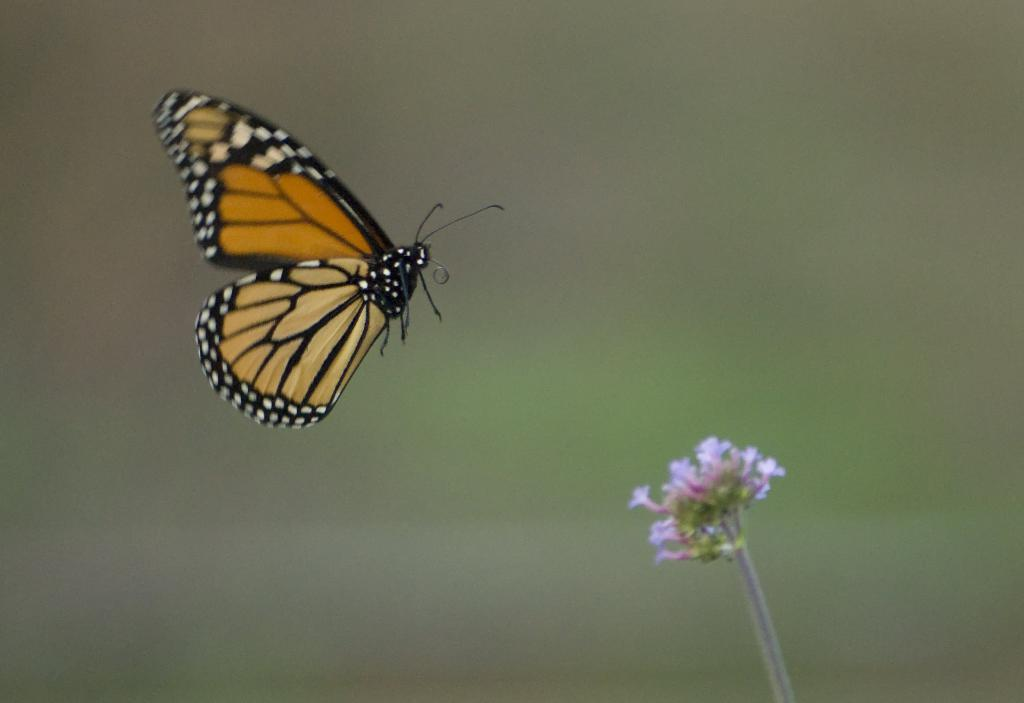Butterfly: (121, 76, 508, 436)
